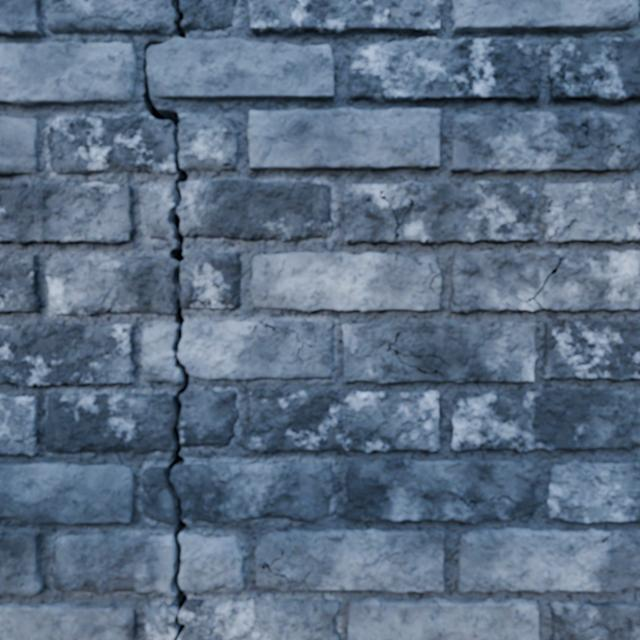broken_brick: (170, 461, 334, 523), (176, 179, 332, 241), (177, 319, 334, 380), (46, 253, 177, 314), (44, 393, 175, 453), (47, 113, 174, 174), (53, 532, 173, 595), (179, 596, 338, 639), (46, 0, 176, 35), (178, 532, 243, 594), (177, 390, 239, 447), (180, 251, 241, 308), (178, 116, 238, 170), (142, 323, 183, 384), (142, 467, 175, 525), (142, 184, 174, 240), (180, 0, 236, 31), (146, 604, 177, 639)
crack: (143, 0, 334, 639), (348, 37, 541, 103), (345, 458, 536, 524), (342, 181, 539, 244), (255, 528, 445, 592), (341, 322, 537, 384), (449, 250, 639, 313), (247, 390, 440, 452), (248, 108, 440, 170), (457, 527, 639, 592), (450, 111, 639, 173), (451, 389, 639, 451), (250, 252, 442, 312), (0, 42, 136, 106), (0, 323, 136, 387), (0, 181, 134, 244), (0, 463, 134, 524), (348, 597, 539, 639), (248, 0, 442, 35), (541, 181, 639, 243), (542, 318, 639, 380), (548, 36, 639, 102), (451, 0, 638, 32), (548, 459, 639, 522), (0, 603, 136, 639), (550, 601, 639, 639), (0, 533, 43, 596), (0, 394, 39, 455), (0, 254, 41, 312), (0, 117, 38, 176), (0, 0, 41, 37), (284, 330, 313, 364), (93, 272, 117, 312), (258, 321, 282, 331), (190, 165, 223, 166), (252, 323, 256, 331)
